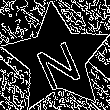N_NW: (29, 28, 85, 90)
